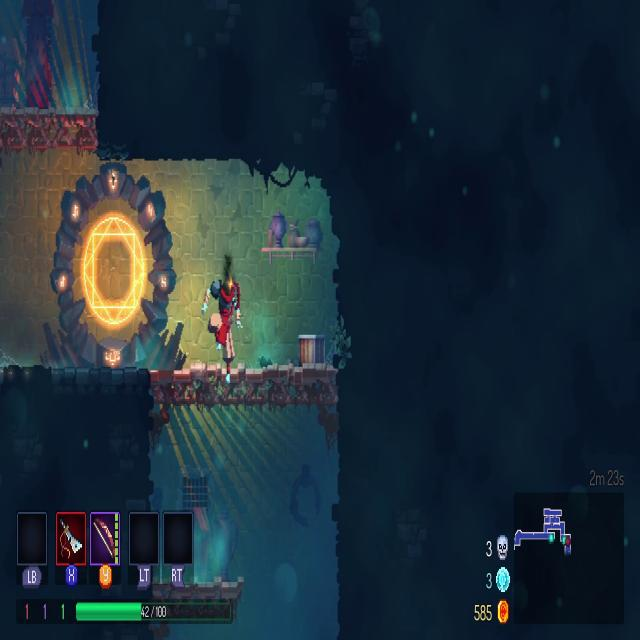agents: (202, 260, 243, 378)
wood_floor: (148, 364, 343, 412), (2, 96, 98, 158), (152, 566, 248, 628)
